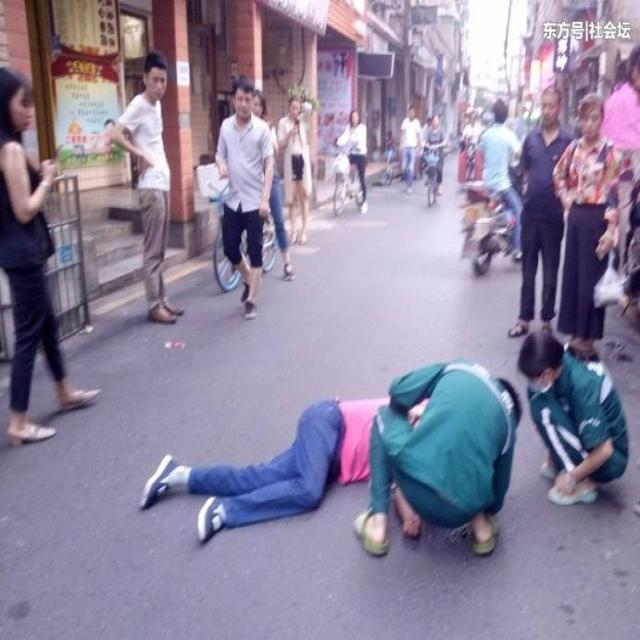10-: (0, 44, 639, 524)
down: (136, 383, 426, 543)
